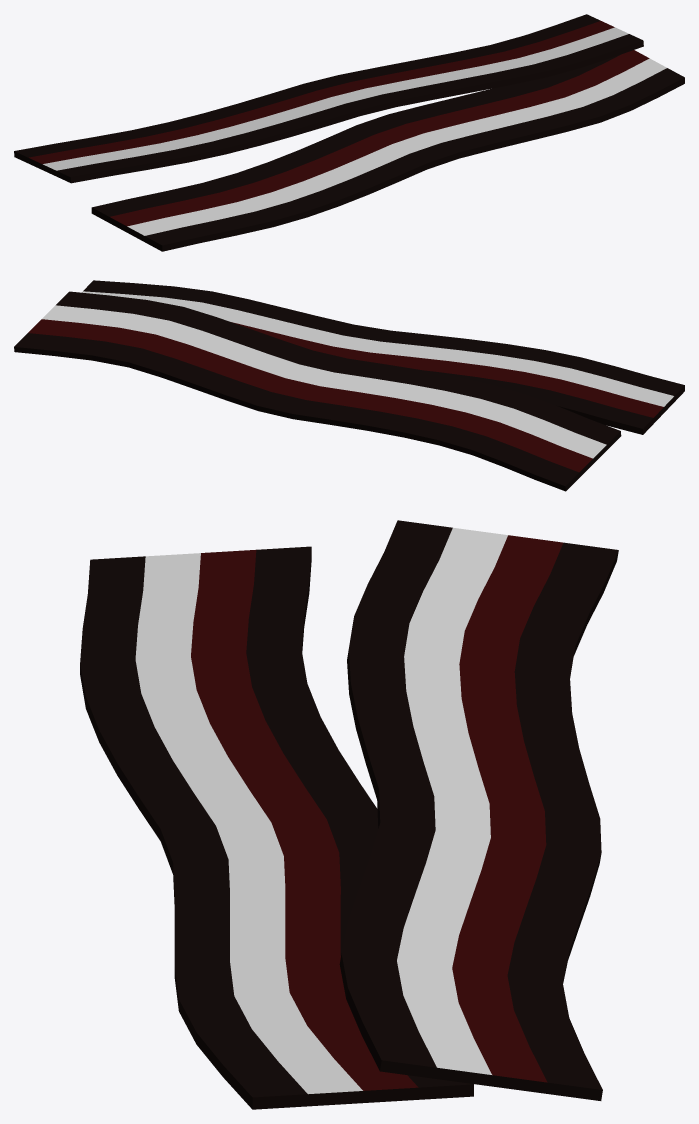
The model's file is MakeSandwichBacon.FBX.
The picture shows the model from 3 angles, top to bottom: view 1: azimuth 30°, elevation 25°; view 2: azimuth 150°, elevation 25°; view 3: azimuth 270°, elevation 25°; orthographic projection. The views are drawn at different scales.
Parts seen in each view (by area): view 1: Bacon; view 2: Bacon; view 3: Bacon.
Part boxes in pixels (left/top/right/bottom): Bacon: left=14, top=14, right=684, bottom=251; Bacon: left=14, top=280, right=684, bottom=491; Bacon: left=80, top=520, right=618, bottom=1109.
Size of the model in its own units: 0.5055 by 0.0207 by 0.2089.
